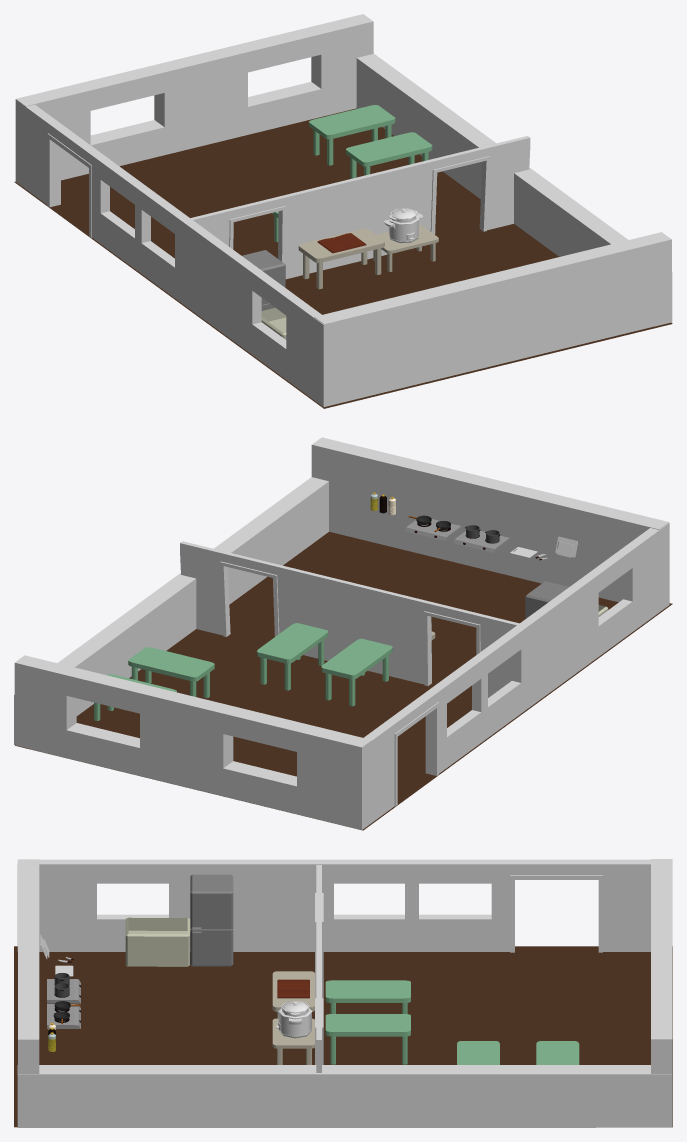
Rendered from wall 1.fbx.
3 renders of one model, top to bottom at view 1: azimuth 30°, elevation 25°; view 2: azimuth 150°, elevation 25°; view 3: azimuth 270°, elevation 25°, orthographic. The views are drawn at different scales.
Visible parts, largest first — view 1: Plane, Cube, Cube.003, Cube.001, Cube.004, Cube.002, Table.007, Table.006, Table, Rice cooker, Table.001, Fridge (+1 smaller); view 2: Plane, Cube.001, Cube, Cube.003, Cube.004, Cube.002, Table.002, Table.003, Table.006, Fridge, Cube.006, Cube.010; view 3: Plane, Cube.002, Cube.003, Cube, Cube.001, Fridge, Freezer, Table.002, Table.003, Cube.004, Rice cooker, Table.007 (+6 smaller).
Part boxes in pixels (bbox=[...]): Plane: bbox=[14, 108, 672, 408]; Cube: bbox=[314, 232, 671, 404]; Cube.003: bbox=[16, 100, 332, 406]; Cube.001: bbox=[15, 14, 373, 181]; Cube.004: bbox=[190, 136, 530, 279]; Cube.002: bbox=[356, 53, 672, 326]; Table.007: bbox=[309, 105, 395, 165]; Table.006: bbox=[346, 132, 432, 178]; Table: bbox=[298, 228, 384, 289]; Rice cooker: bbox=[384, 208, 423, 243]; Table.001: bbox=[373, 225, 438, 271]; Fridge: bbox=[242, 250, 285, 310]; Plane: bbox=[15, 531, 672, 830]; Cube.001: bbox=[14, 655, 371, 829]; Cube: bbox=[311, 437, 668, 602]; Cube.003: bbox=[362, 522, 669, 829]; Cube.004: bbox=[180, 541, 519, 697]; Cube.002: bbox=[14, 477, 328, 749]; Table.002: bbox=[257, 623, 327, 690]; Table.003: bbox=[321, 638, 392, 706]; Table.006: bbox=[128, 647, 214, 697]; Fridge: bbox=[525, 581, 568, 618]; Cube.006: bbox=[405, 519, 461, 541]; Cube.010: bbox=[454, 530, 509, 552]; Plane: bbox=[14, 946, 672, 1127]; Cube.002: bbox=[17, 1065, 672, 1127]; Cube.003: bbox=[17, 859, 650, 952]; Cube: bbox=[18, 859, 39, 1073]; Cube.001: bbox=[651, 859, 672, 1073]; Fridge: bbox=[190, 874, 233, 966]; Freezer: bbox=[125, 917, 190, 966]; Table.002: bbox=[325, 1014, 410, 1064]; Table.003: bbox=[325, 980, 410, 1013]; Cube.004: bbox=[315, 865, 323, 1072]; Rice cooker: bbox=[276, 1000, 312, 1038]; Table.007: bbox=[536, 1041, 579, 1064].
Bounding box in the file's own units: 1998 × 455 × 3067.
